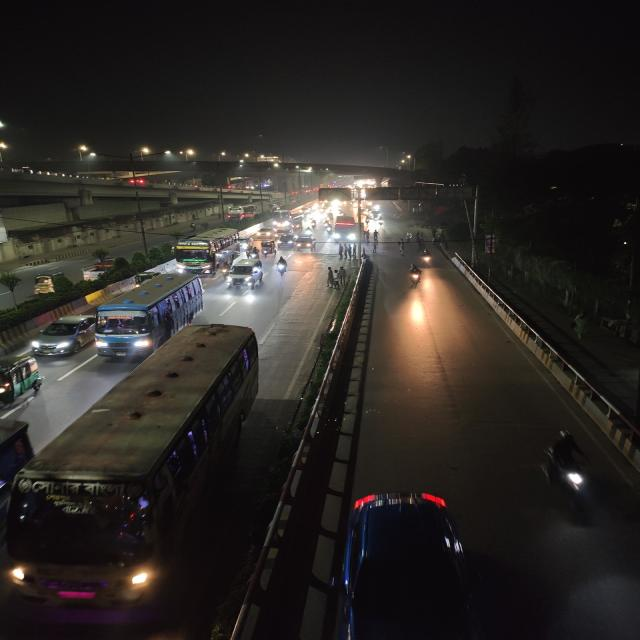bicycle: (324, 266, 342, 292)
bus: (2, 322, 262, 622), (92, 273, 206, 362), (169, 229, 234, 274), (326, 215, 361, 243), (225, 206, 254, 221)
car: (335, 486, 482, 640), (29, 313, 94, 358), (223, 258, 266, 290), (258, 228, 274, 239)
cng: (0, 352, 46, 416), (30, 269, 69, 297), (259, 240, 279, 258), (276, 232, 294, 246)
motorcycle: (538, 426, 601, 513), (405, 263, 426, 289), (272, 255, 290, 278), (418, 248, 435, 268)
pedestrian: (431, 230, 446, 245), (396, 244, 407, 257), (344, 244, 352, 260), (371, 238, 378, 254), (337, 243, 343, 260)
pickup_van: (296, 233, 318, 250)
truck: (271, 208, 293, 230)
